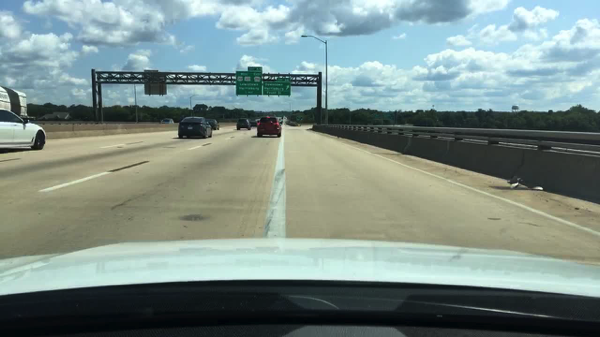car: (0, 108, 47, 150), (177, 116, 213, 139), (257, 115, 282, 137), (236, 118, 252, 130), (205, 118, 220, 130), (161, 117, 175, 125), (250, 118, 260, 129), (279, 118, 283, 124)
traffic sign: (235, 70, 262, 96), (145, 69, 168, 95), (263, 81, 291, 96), (371, 113, 394, 120), (247, 66, 262, 70), (276, 77, 290, 81)
truck: (0, 87, 36, 122)
